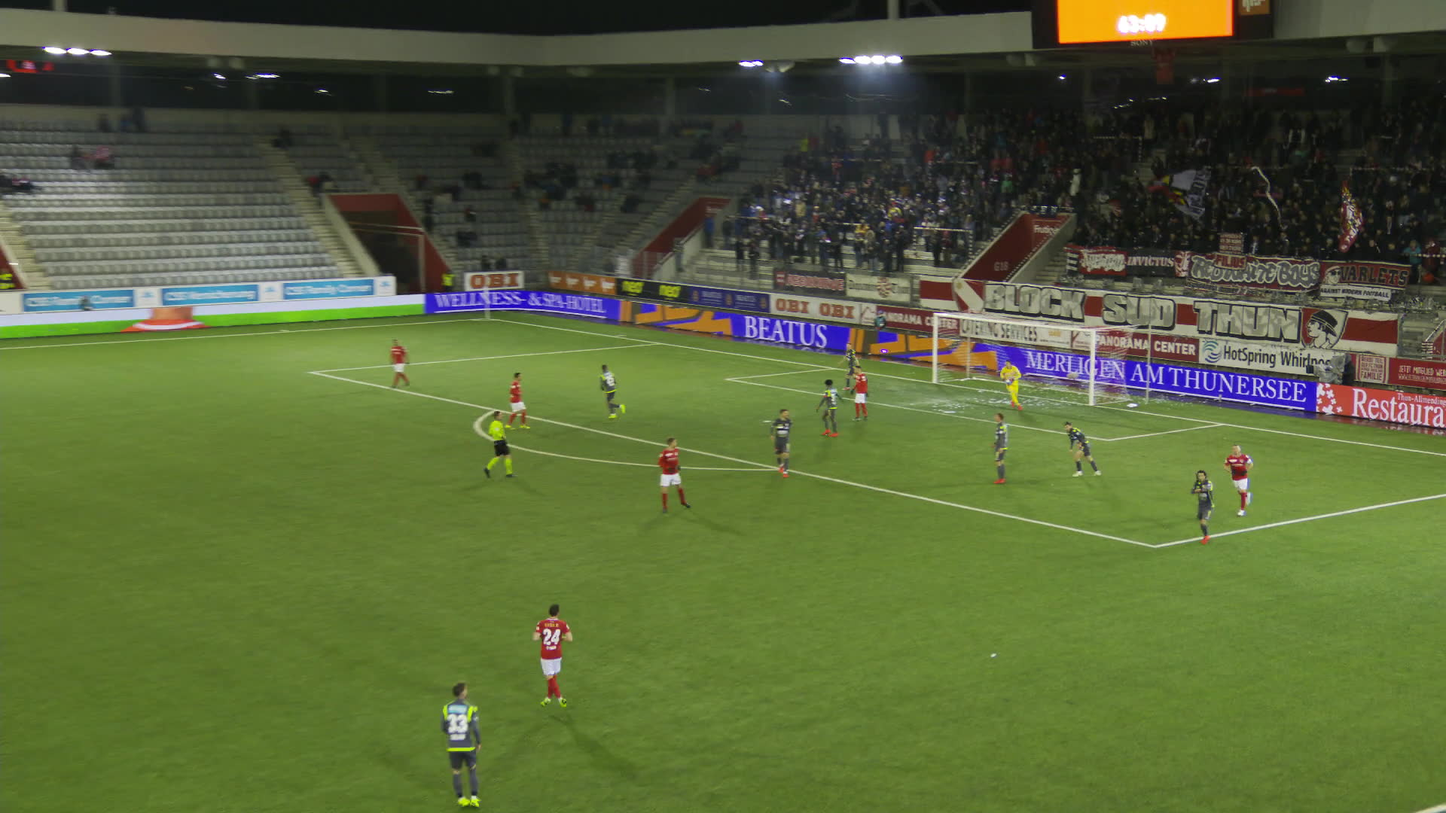ball: (1003, 377, 1011, 387)
player: (436, 684, 485, 808), (529, 608, 576, 712), (654, 436, 685, 514), (1220, 446, 1253, 516), (1060, 421, 1099, 477), (1185, 470, 1213, 546), (812, 379, 844, 437), (764, 407, 790, 477), (594, 362, 621, 419), (987, 413, 1008, 484), (843, 365, 869, 422), (834, 341, 859, 392), (383, 337, 406, 388), (503, 371, 523, 429), (997, 361, 1020, 410)
referee: (483, 411, 518, 479)
